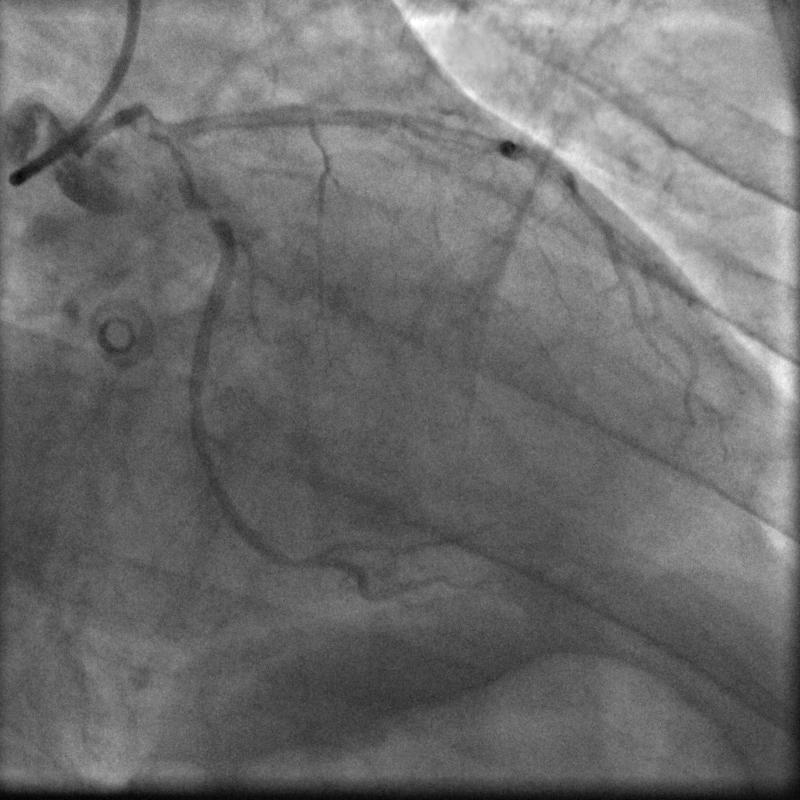Stenosis: (200, 206, 221, 220)
